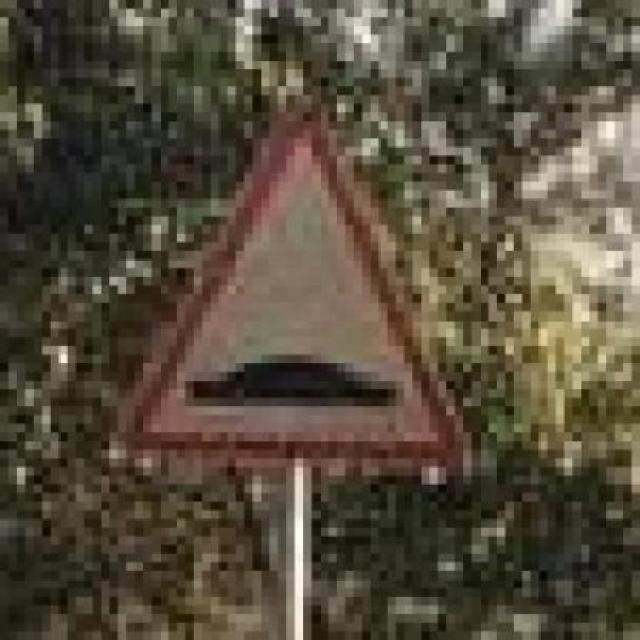hump or rough road: (117, 92, 474, 472)
